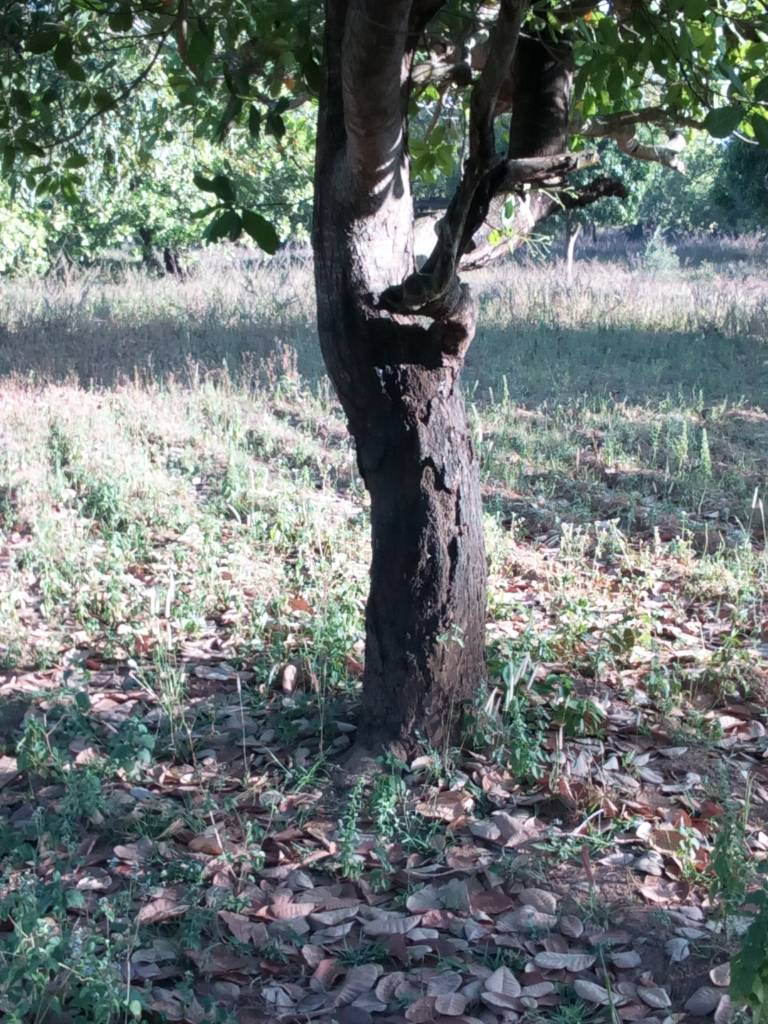Termites: (361, 357, 491, 732)
